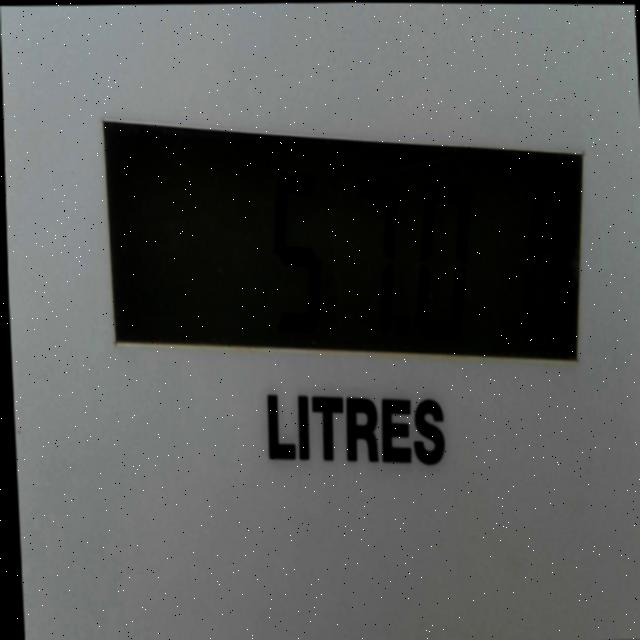.: (389, 311, 416, 364)
0: (405, 177, 479, 340)
1: (493, 176, 554, 346)
5: (264, 154, 334, 348)
7: (337, 158, 407, 341)
